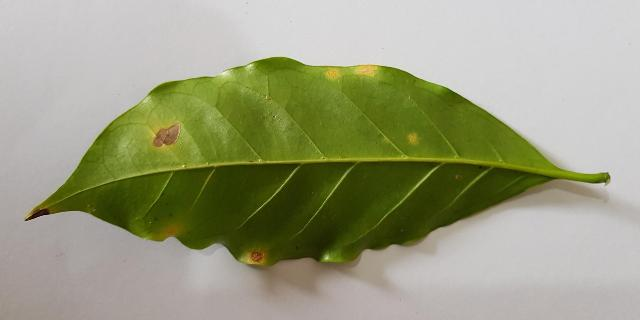cercospora: (152, 124, 179, 148), (242, 248, 268, 266), (28, 208, 51, 220), (355, 64, 378, 76), (163, 225, 181, 240), (326, 68, 340, 78), (408, 132, 419, 144)
